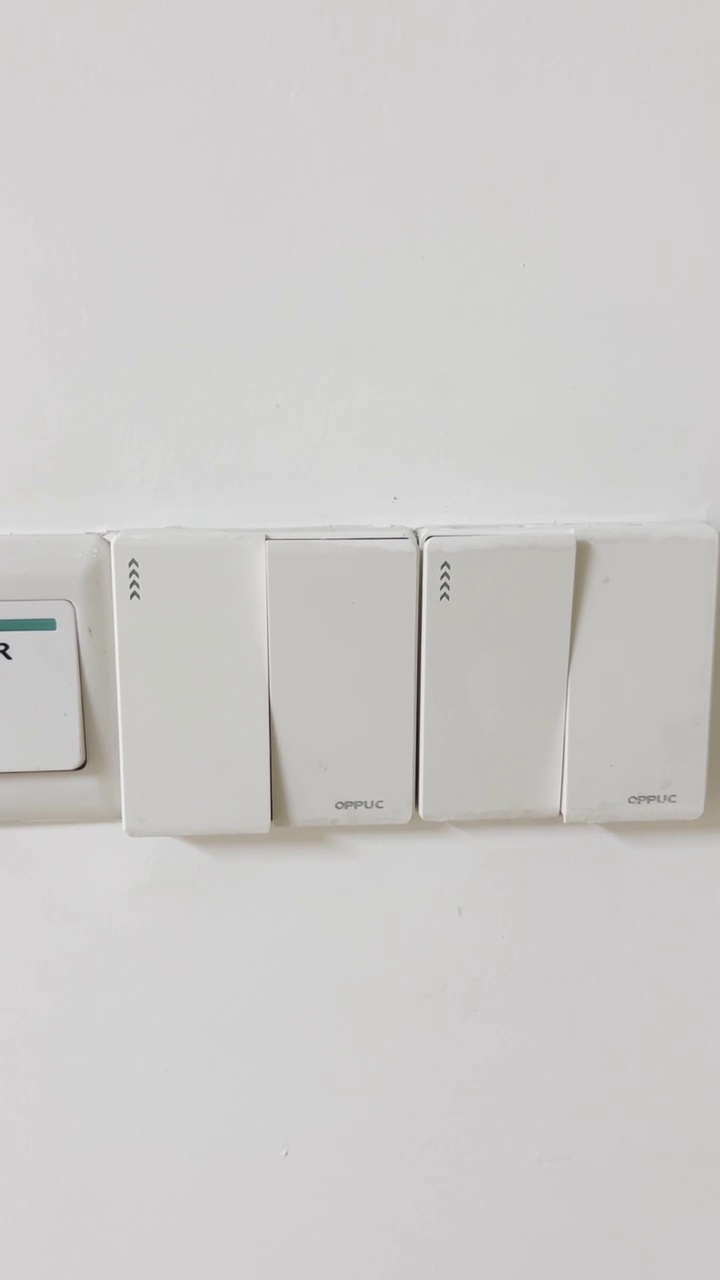button1: (115, 536, 269, 833), (275, 544, 414, 819), (427, 541, 562, 816), (574, 539, 705, 820)
